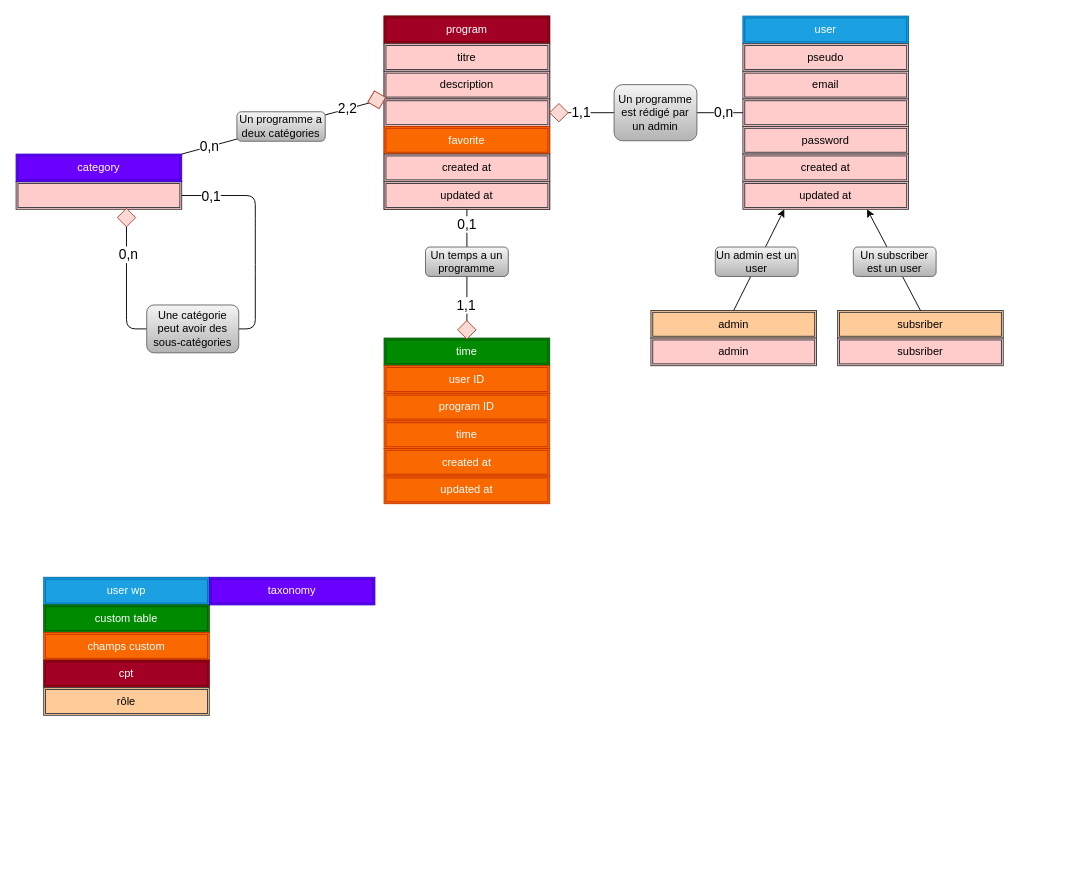
Some shapes in this 1072 by 869 pixel diagram are drawn without their labels. Each missing label, with the box of its shape:
image: (383, 98, 550, 126)
login: (742, 98, 908, 126)
name: (15, 181, 182, 209)
